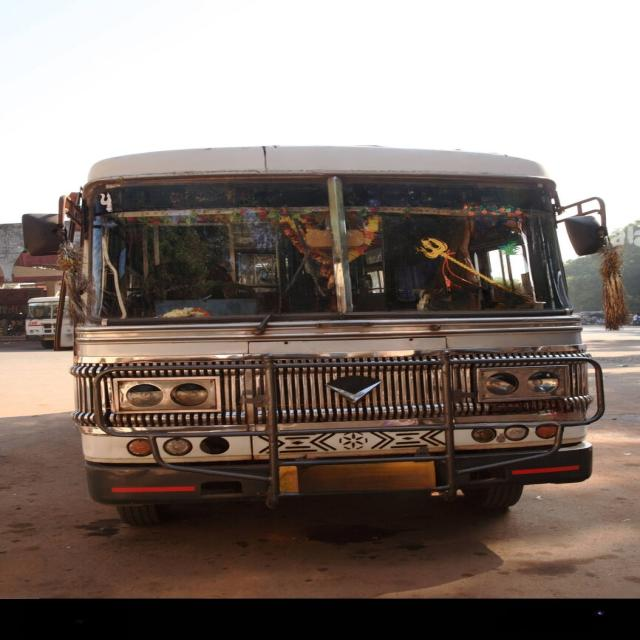bus: (22, 146, 630, 525)
